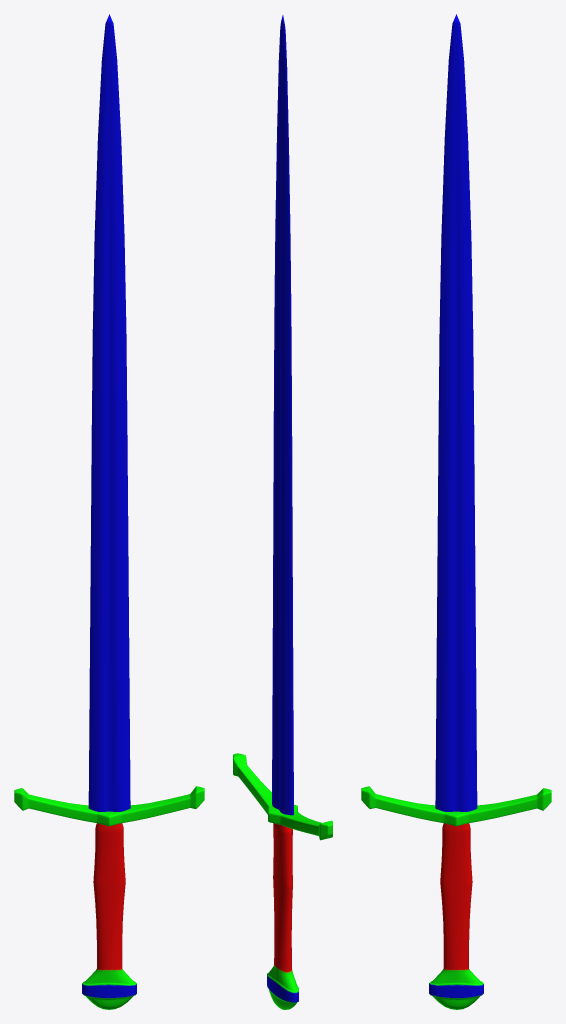
The model's file is SM_Medieval_Weapons_Claymore.fbx.
3 renders of one model, left to right at view 1: azimuth 90°, elevation 25°; view 2: azimuth 210°, elevation 25°; view 3: azimuth 270°, elevation 25°, orthographic.
Visible parts, largest first — view 1: SM_Medieval_Weapons_Claymore; view 2: SM_Medieval_Weapons_Claymore; view 3: SM_Medieval_Weapons_Claymore.
Part boxes in pixels (x1,y1,x2,y2): SM_Medieval_Weapons_Claymore: (14,14,204,1009); SM_Medieval_Weapons_Claymore: (233,15,332,1009); SM_Medieval_Weapons_Claymore: (361,14,551,1009).
Size of the model in its own units: 4.89 by 27.31 by 157.
